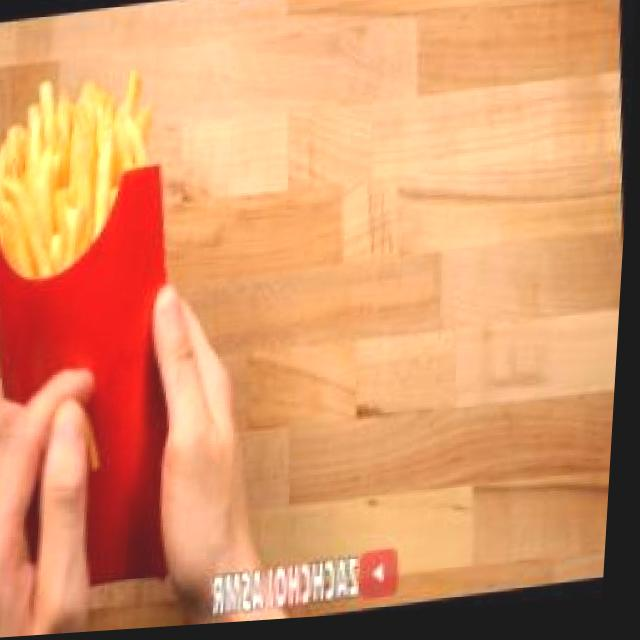french fries: (0, 44, 178, 323)
